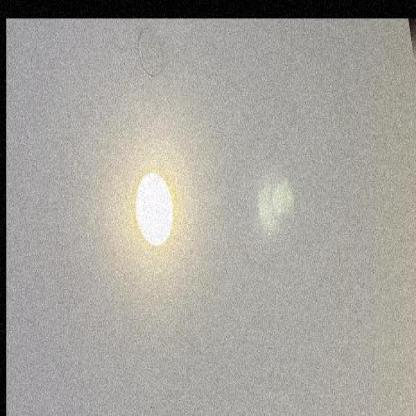light_on: (126, 148, 182, 266)
